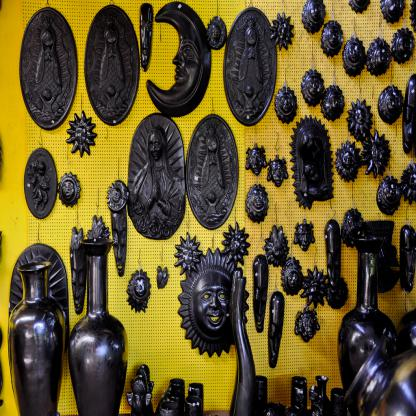vase: (66, 235, 128, 416), (6, 259, 66, 416), (336, 234, 396, 391), (291, 374, 307, 415), (330, 385, 349, 415), (170, 376, 184, 414), (188, 381, 204, 414), (316, 374, 328, 416), (256, 372, 266, 416), (184, 394, 204, 415), (168, 387, 182, 415), (159, 397, 177, 415)
